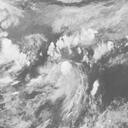cyclone: (47, 60, 82, 96)
